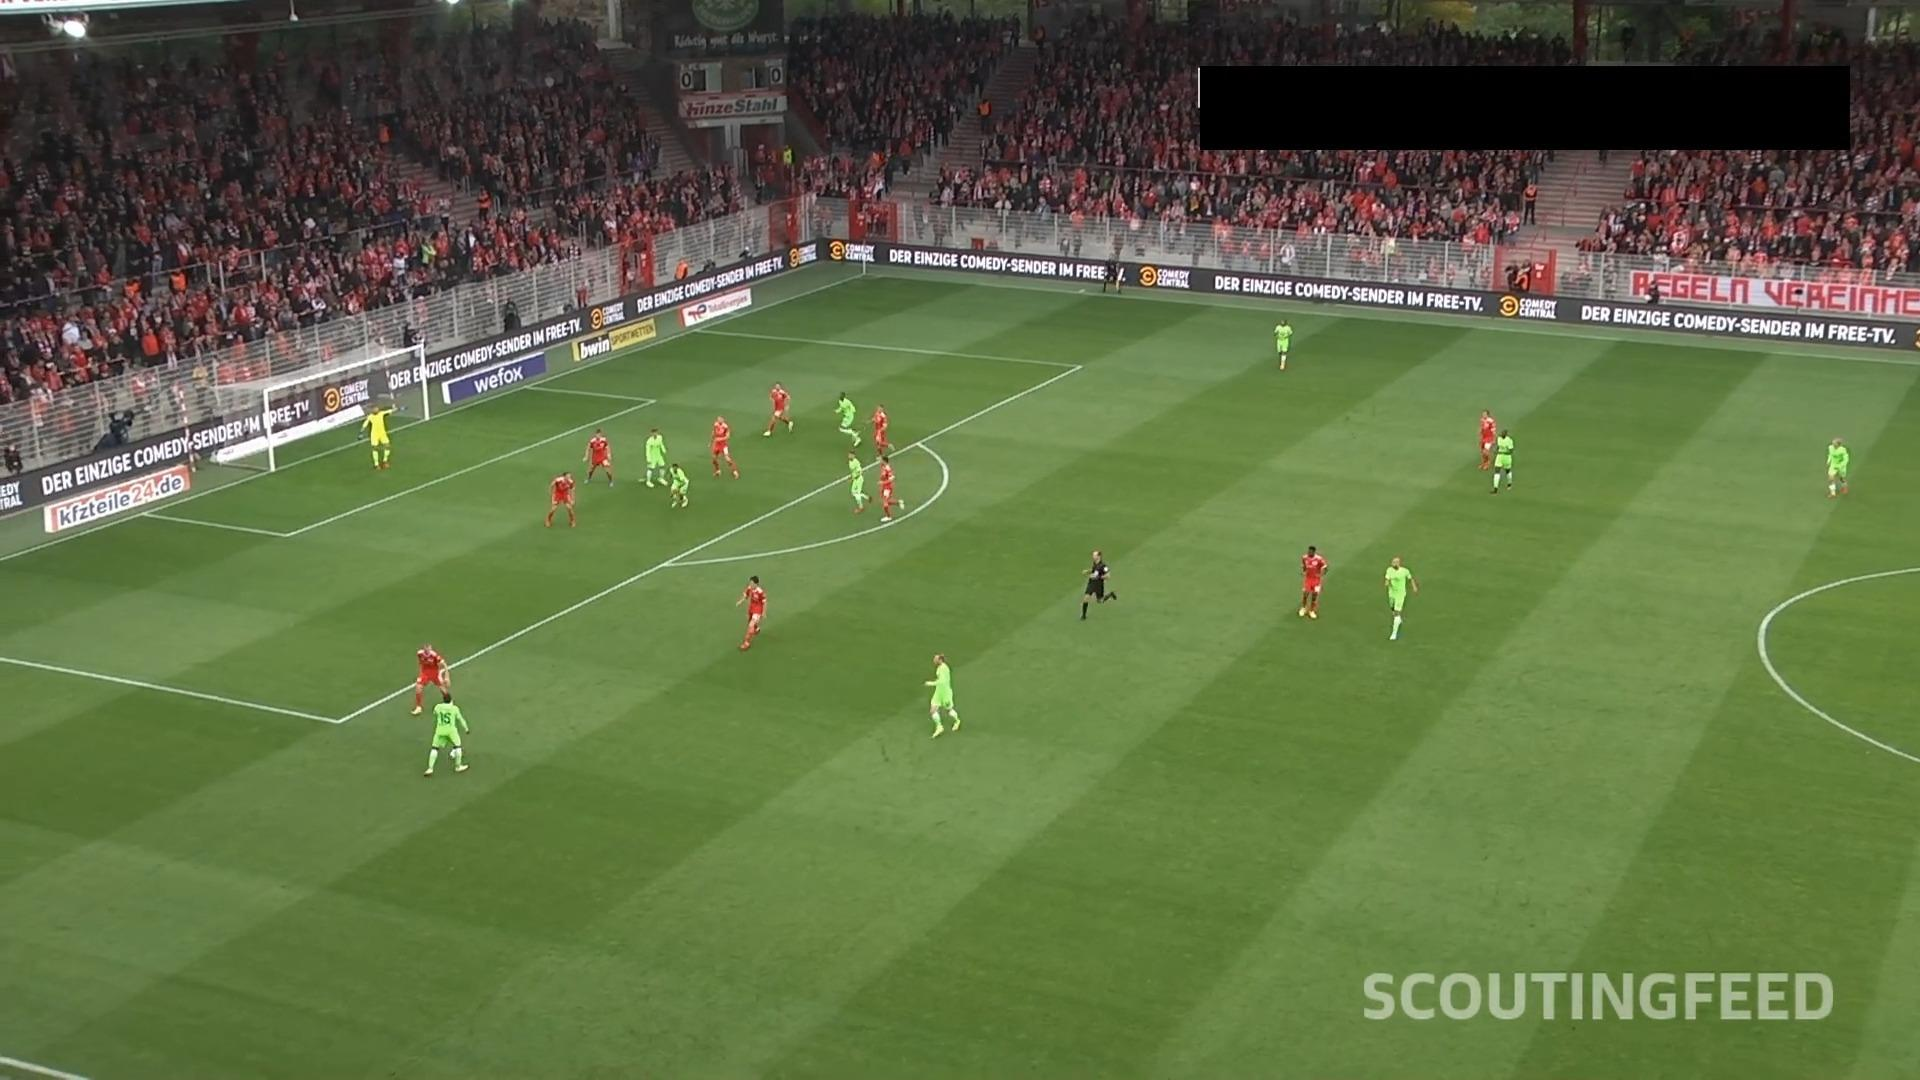ball: (448, 746, 464, 761)
